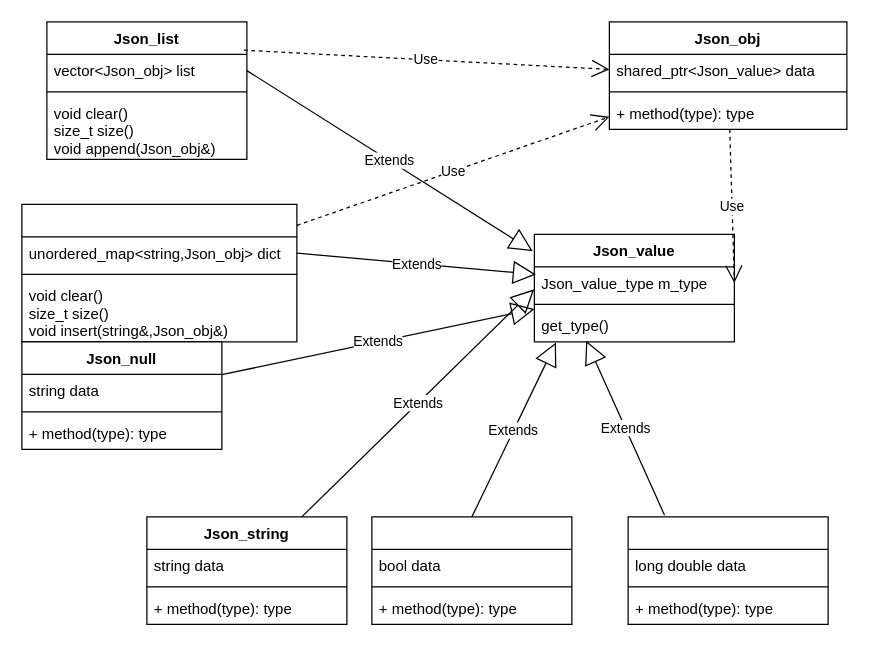
Some shapes in this 869 by 650 pixel diagram are drawn without their labels. Here are the shapes that lost their labels. From the top down, the box of each, then its label:
(21, 203, 297, 342): Json_dict
(371, 516, 572, 624): Json_bool
(627, 516, 828, 624): Json_number
